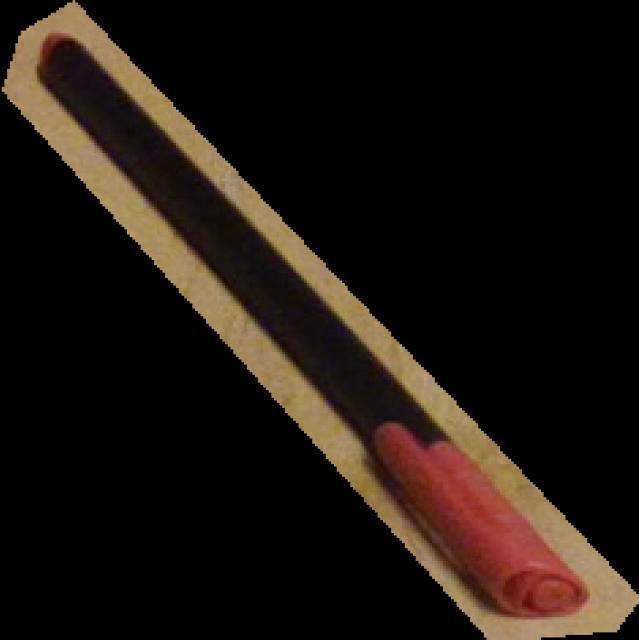red: (1, 1, 639, 640)
